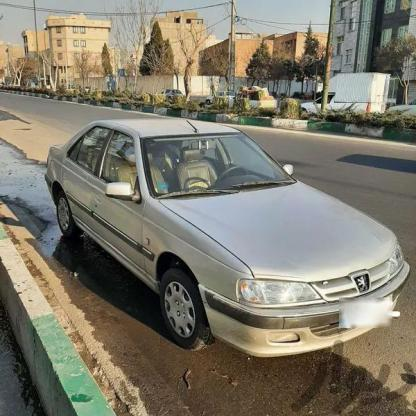Car: (25, 115, 416, 359), (308, 70, 400, 116), (143, 80, 194, 104)
